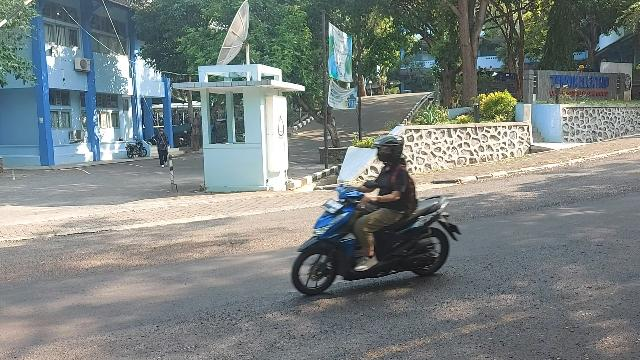helm: (374, 137, 404, 164)
motor: (292, 170, 462, 297)
